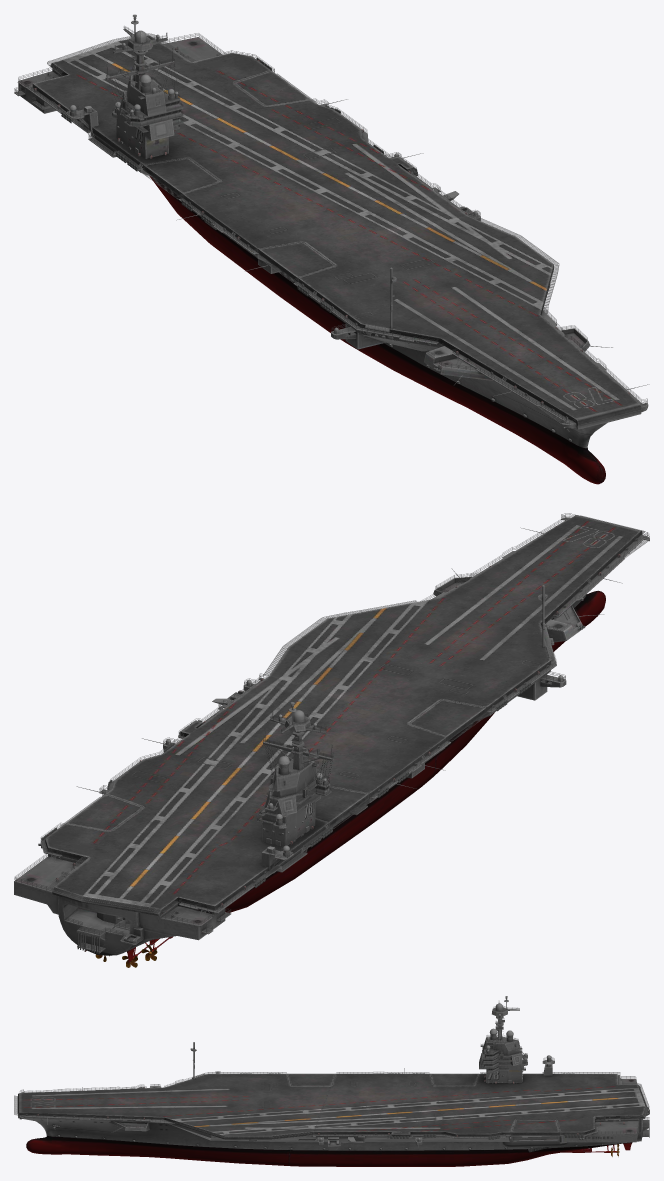
File: acford.gltf
The picture shows the model from 3 angles, top to bottom: view 1: azimuth 30°, elevation 25°; view 2: azimuth 150°, elevation 25°; view 3: azimuth 270°, elevation 25°; orthographic projection. The views are drawn at different scales.
Parts seen in each view (by area): view 1: HM_FT; view 2: HM_FT; view 3: HM_FT.
Part boxes in pixels (<box>): HM_FT: <box>14,14,649,484</box>; HM_FT: <box>14,513,649,967</box>; HM_FT: <box>14,996,649,1166</box>.
Size of the model in its own units: 10.11 by 7.78 by 33.7.
3 materials, 3 textured.
